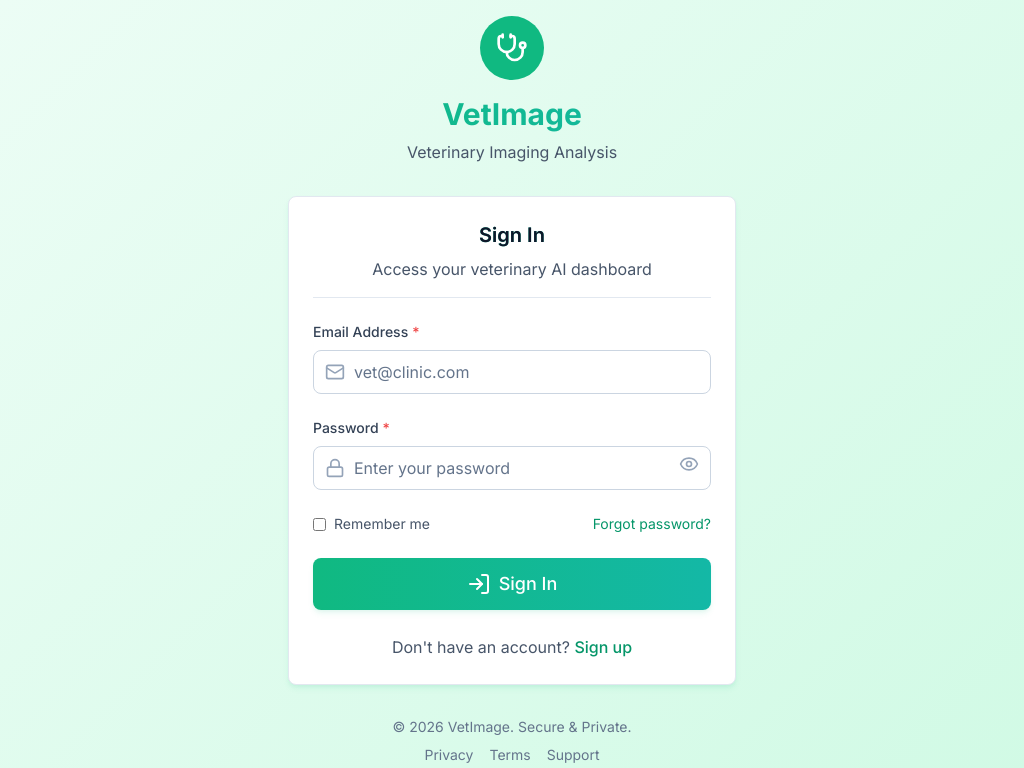
Test: LoginPage › should show validation errors for empty fields
Click the button "Sign In": [512, 584] box [313, 558, 711, 610]
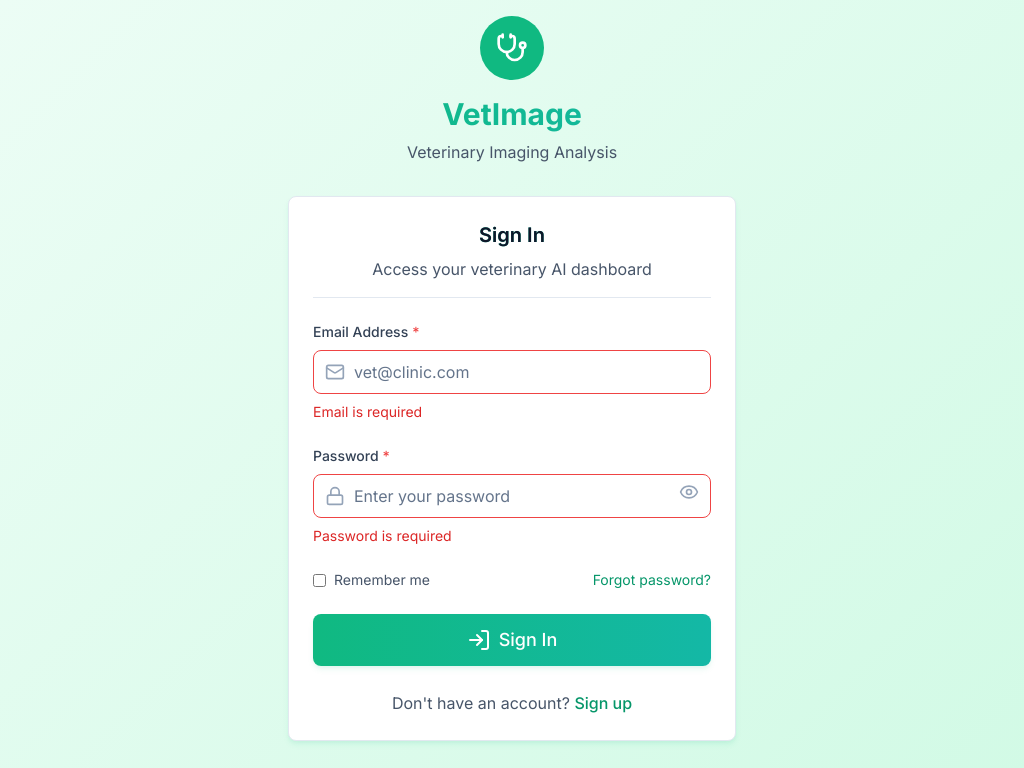
expect the text "Email is required" is shown: met, box [313, 403, 422, 420]
